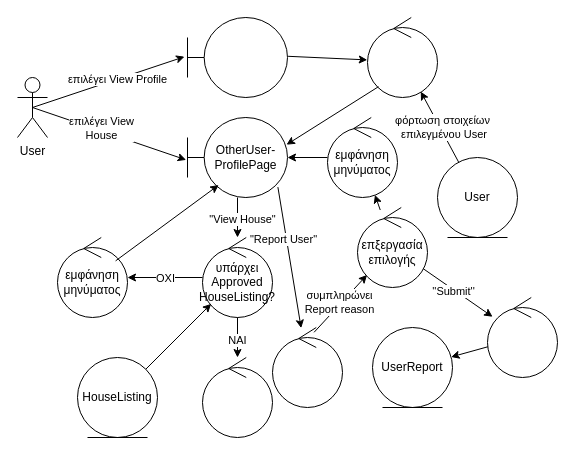
The diagram is 575 pixels wide and 455 high, and some of its shapes have lost their labels. The shapes that lost their labels are listed below. From the top down, each one's centre as x and y in pixels, then its label:
At (237,57): "View Profile Button".
At (402,57): "Φόρτωση Page".
At (522,337): "αποθήκευση".
At (307,367): "εμφανίση φόρμας αναφοράς".
At (237,397): "Bήμα 6 ΠΧ3".
